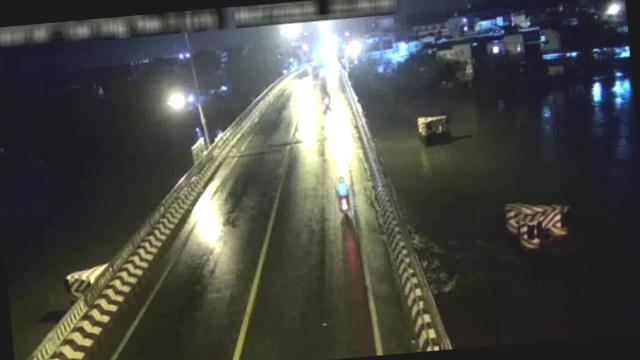Bike: (333, 174, 354, 216)
